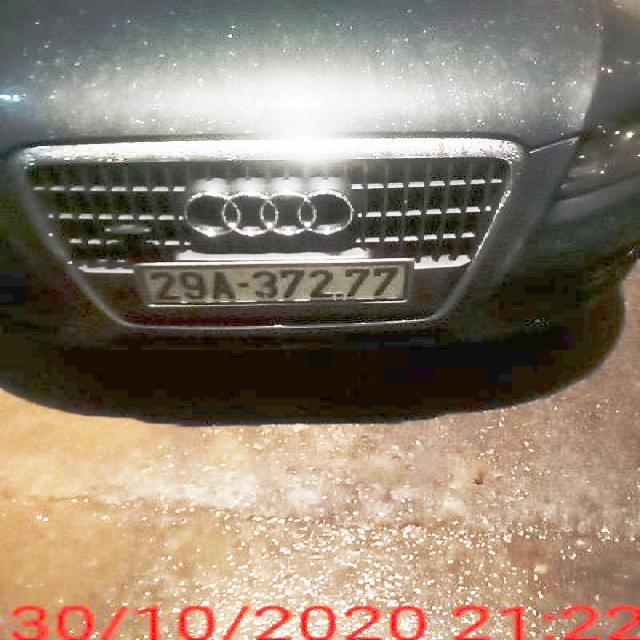license_plate: (139, 260, 414, 310)
